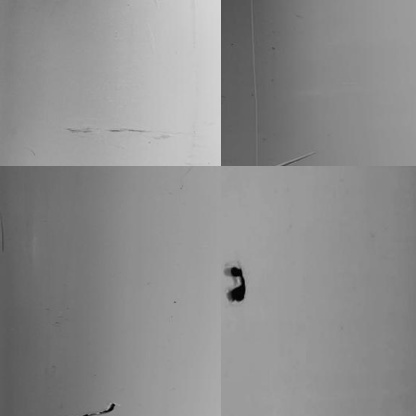fengxi: (81, 400, 116, 415)
kongdong: (224, 264, 252, 304)
